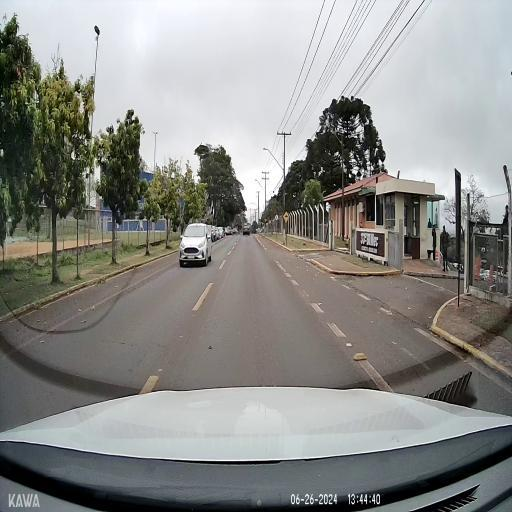A-18: (282, 210, 290, 222)
